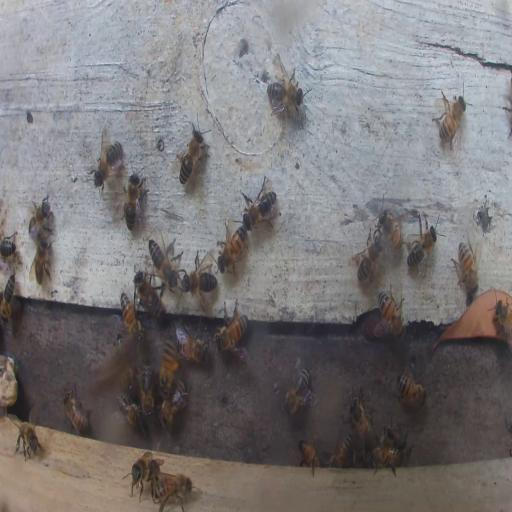bee: (174, 116, 210, 188), (406, 213, 441, 277), (349, 226, 386, 285), (433, 91, 467, 152), (265, 68, 306, 118), (241, 177, 277, 233), (147, 234, 183, 289), (185, 251, 218, 307), (93, 132, 124, 190), (281, 364, 316, 415), (219, 221, 248, 274), (129, 450, 161, 498), (214, 306, 248, 350), (134, 272, 165, 320), (377, 284, 404, 336), (123, 170, 146, 231), (455, 239, 480, 293), (12, 414, 40, 462), (154, 475, 191, 511), (158, 338, 180, 398), (347, 395, 375, 441), (63, 392, 92, 434), (176, 326, 208, 363), (160, 383, 188, 425), (30, 235, 52, 285), (117, 393, 145, 431), (322, 434, 354, 467), (120, 292, 142, 340), (398, 370, 427, 406), (381, 208, 403, 252), (28, 199, 52, 238), (366, 445, 402, 470), (0, 272, 16, 327), (492, 300, 512, 338), (298, 441, 321, 472), (141, 364, 153, 416), (1, 235, 17, 260), (377, 428, 394, 446), (352, 442, 364, 463)
